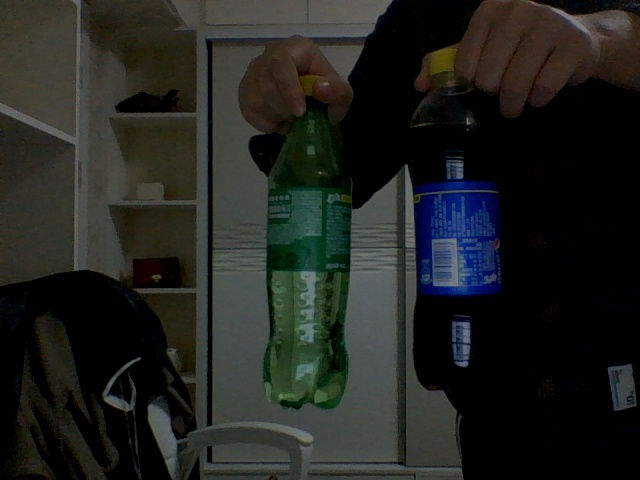Cola: (404, 46, 497, 390)
Sprite: (262, 75, 354, 410)
